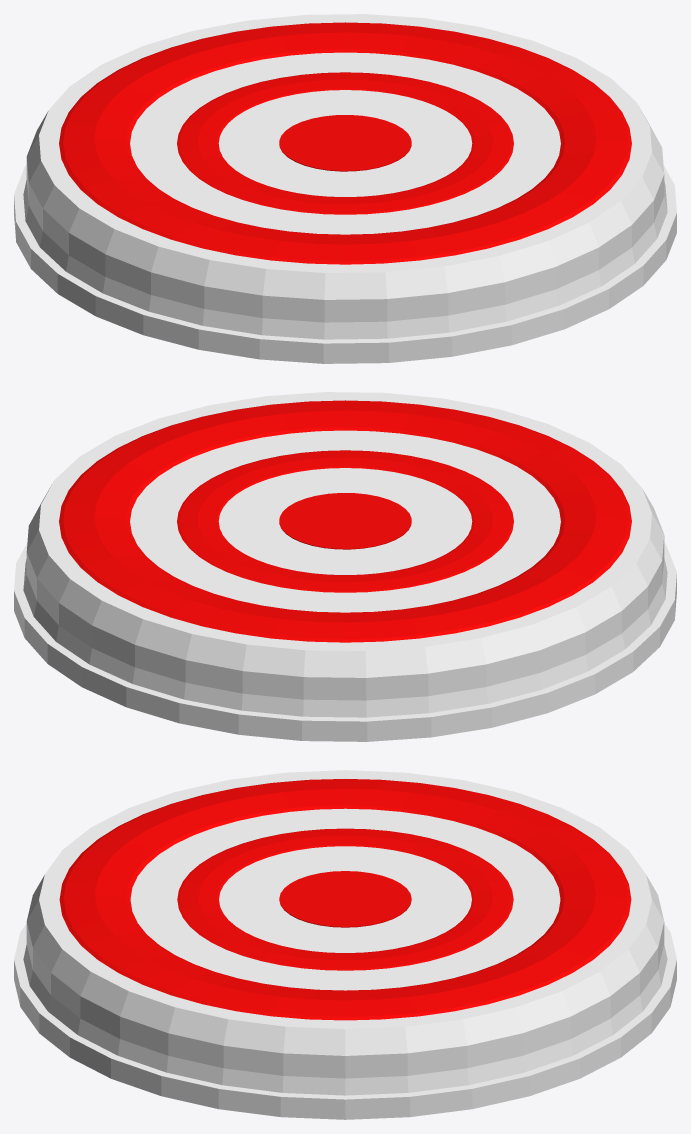
Rendered from target-top.fbx.
3 views of the same model, one above another, from view 1: azimuth 30°, elevation 25°; view 2: azimuth 150°, elevation 25°; view 3: azimuth 270°, elevation 25° (orthographic).
Visible parts, largest first — view 1: top blade, Torus, Torus.001, Cylinder; view 2: top blade, Torus, Torus.001, Cylinder; view 3: top blade, Torus, Torus.001, Cylinder.
Part boxes in pixels (x1,y1,x2,y2): top blade: (14, 14, 676, 363); Torus: (59, 22, 631, 264); Torus.001: (177, 72, 513, 214); Cylinder: (279, 115, 411, 171); top blade: (14, 392, 676, 741); Torus: (59, 400, 631, 642); Torus.001: (177, 450, 513, 592); Cylinder: (279, 493, 411, 549); top blade: (14, 770, 676, 1119); Torus: (59, 779, 631, 1020); Torus.001: (177, 828, 513, 970); Cylinder: (279, 871, 411, 927).
Bounding box in the file's own units: 900 × 128 × 900.
